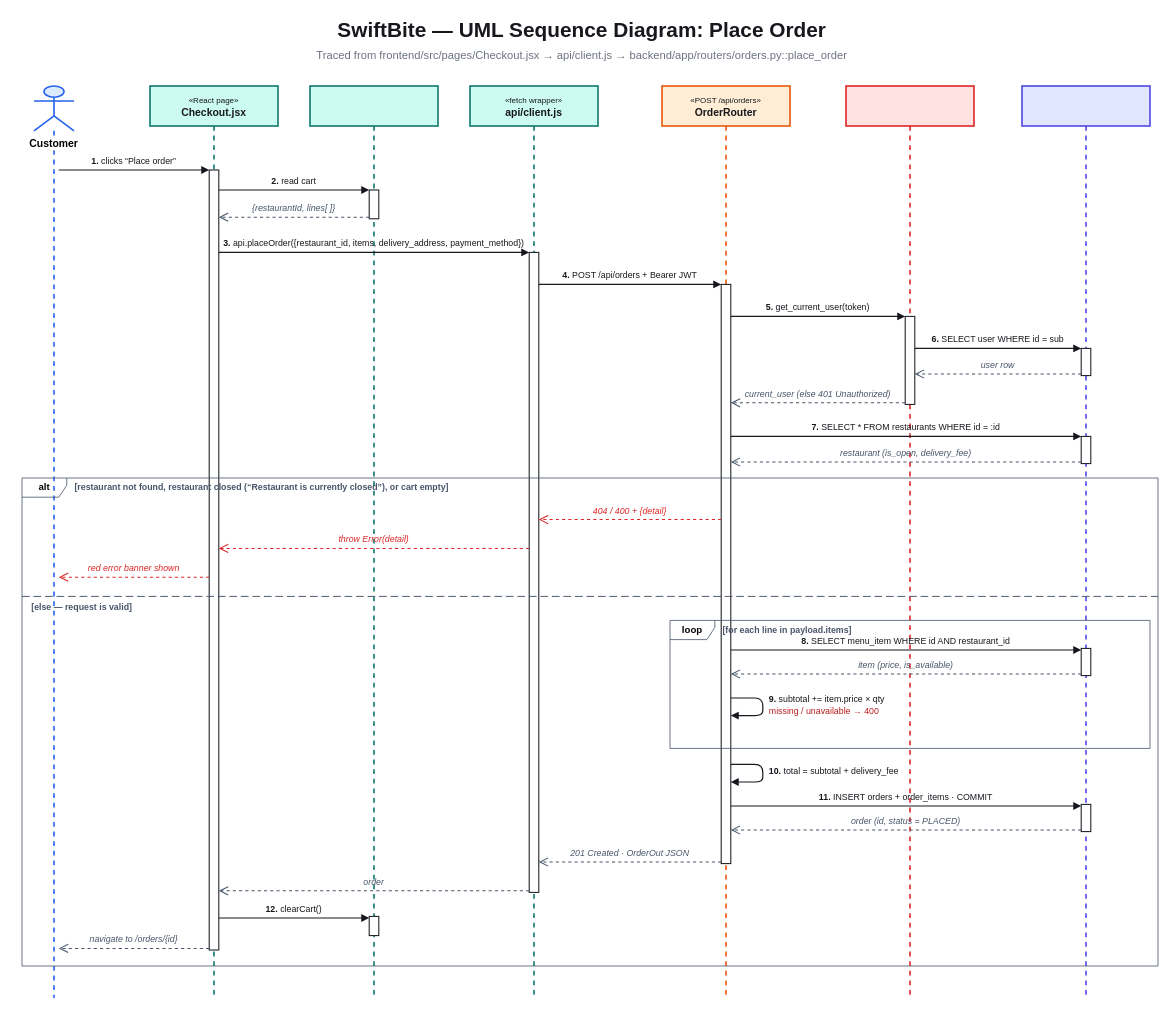
Some shapes in this 1173 by 1012 pixel diagram are drawn without their labels. The shapes that lost their labels are listed below. From the top down, each one's box as (x1, y1, x2, y2) in pixels, then its label:
(309, 85, 438, 998): «cart store» AppContext
(845, 85, 974, 998): «get_current_user» Security
(1021, 85, 1150, 998): «via SQLAlchemy» PostgreSQL
